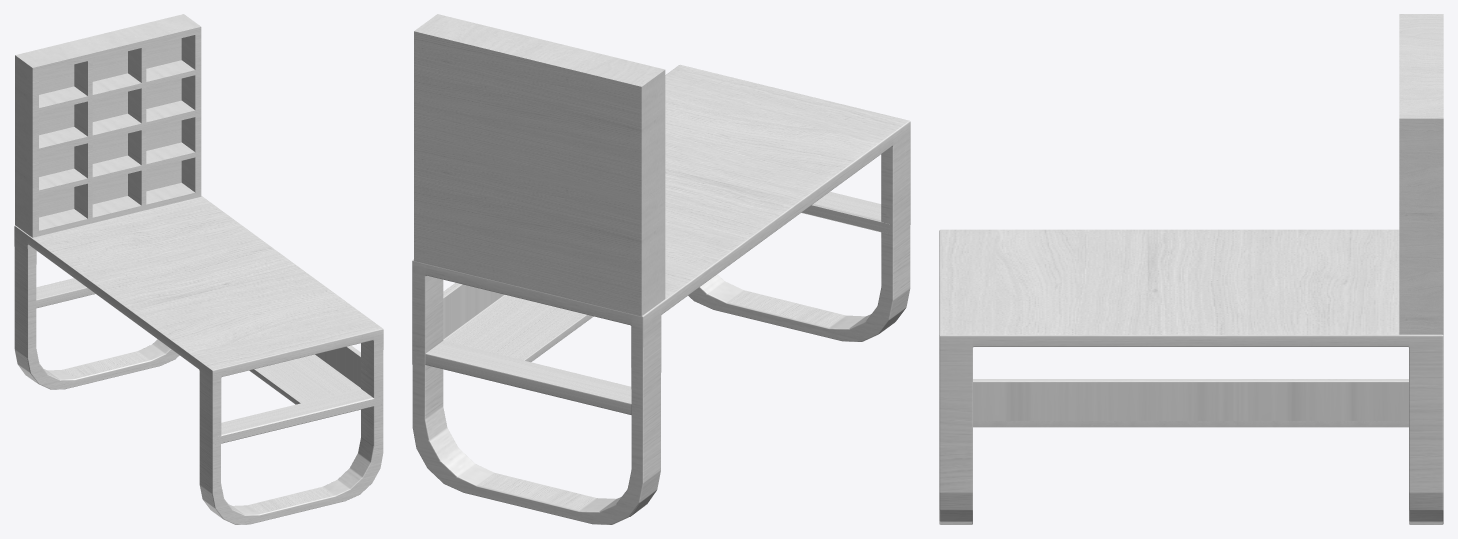
Rendered from desk1.fbx.
The picture shows the model from 3 angles, left to right: view 1: azimuth 30°, elevation 25°; view 2: azimuth 150°, elevation 25°; view 3: azimuth 270°, elevation 25°; orthographic projection. The views are drawn at different scales.
Visible parts, largest first — view 1: desk1; view 2: desk1; view 3: desk1.
Part boxes in pixels (left/top/right/bottom): desk1: left=14, top=14, right=383, bottom=524; desk1: left=412, top=14, right=910, bottom=524; desk1: left=939, top=14, right=1443, bottom=524.
Bounding box in the file's own units: 0.0528 × 0.0981 × 0.1058.
Materials: 1 (1 with a texture image).
